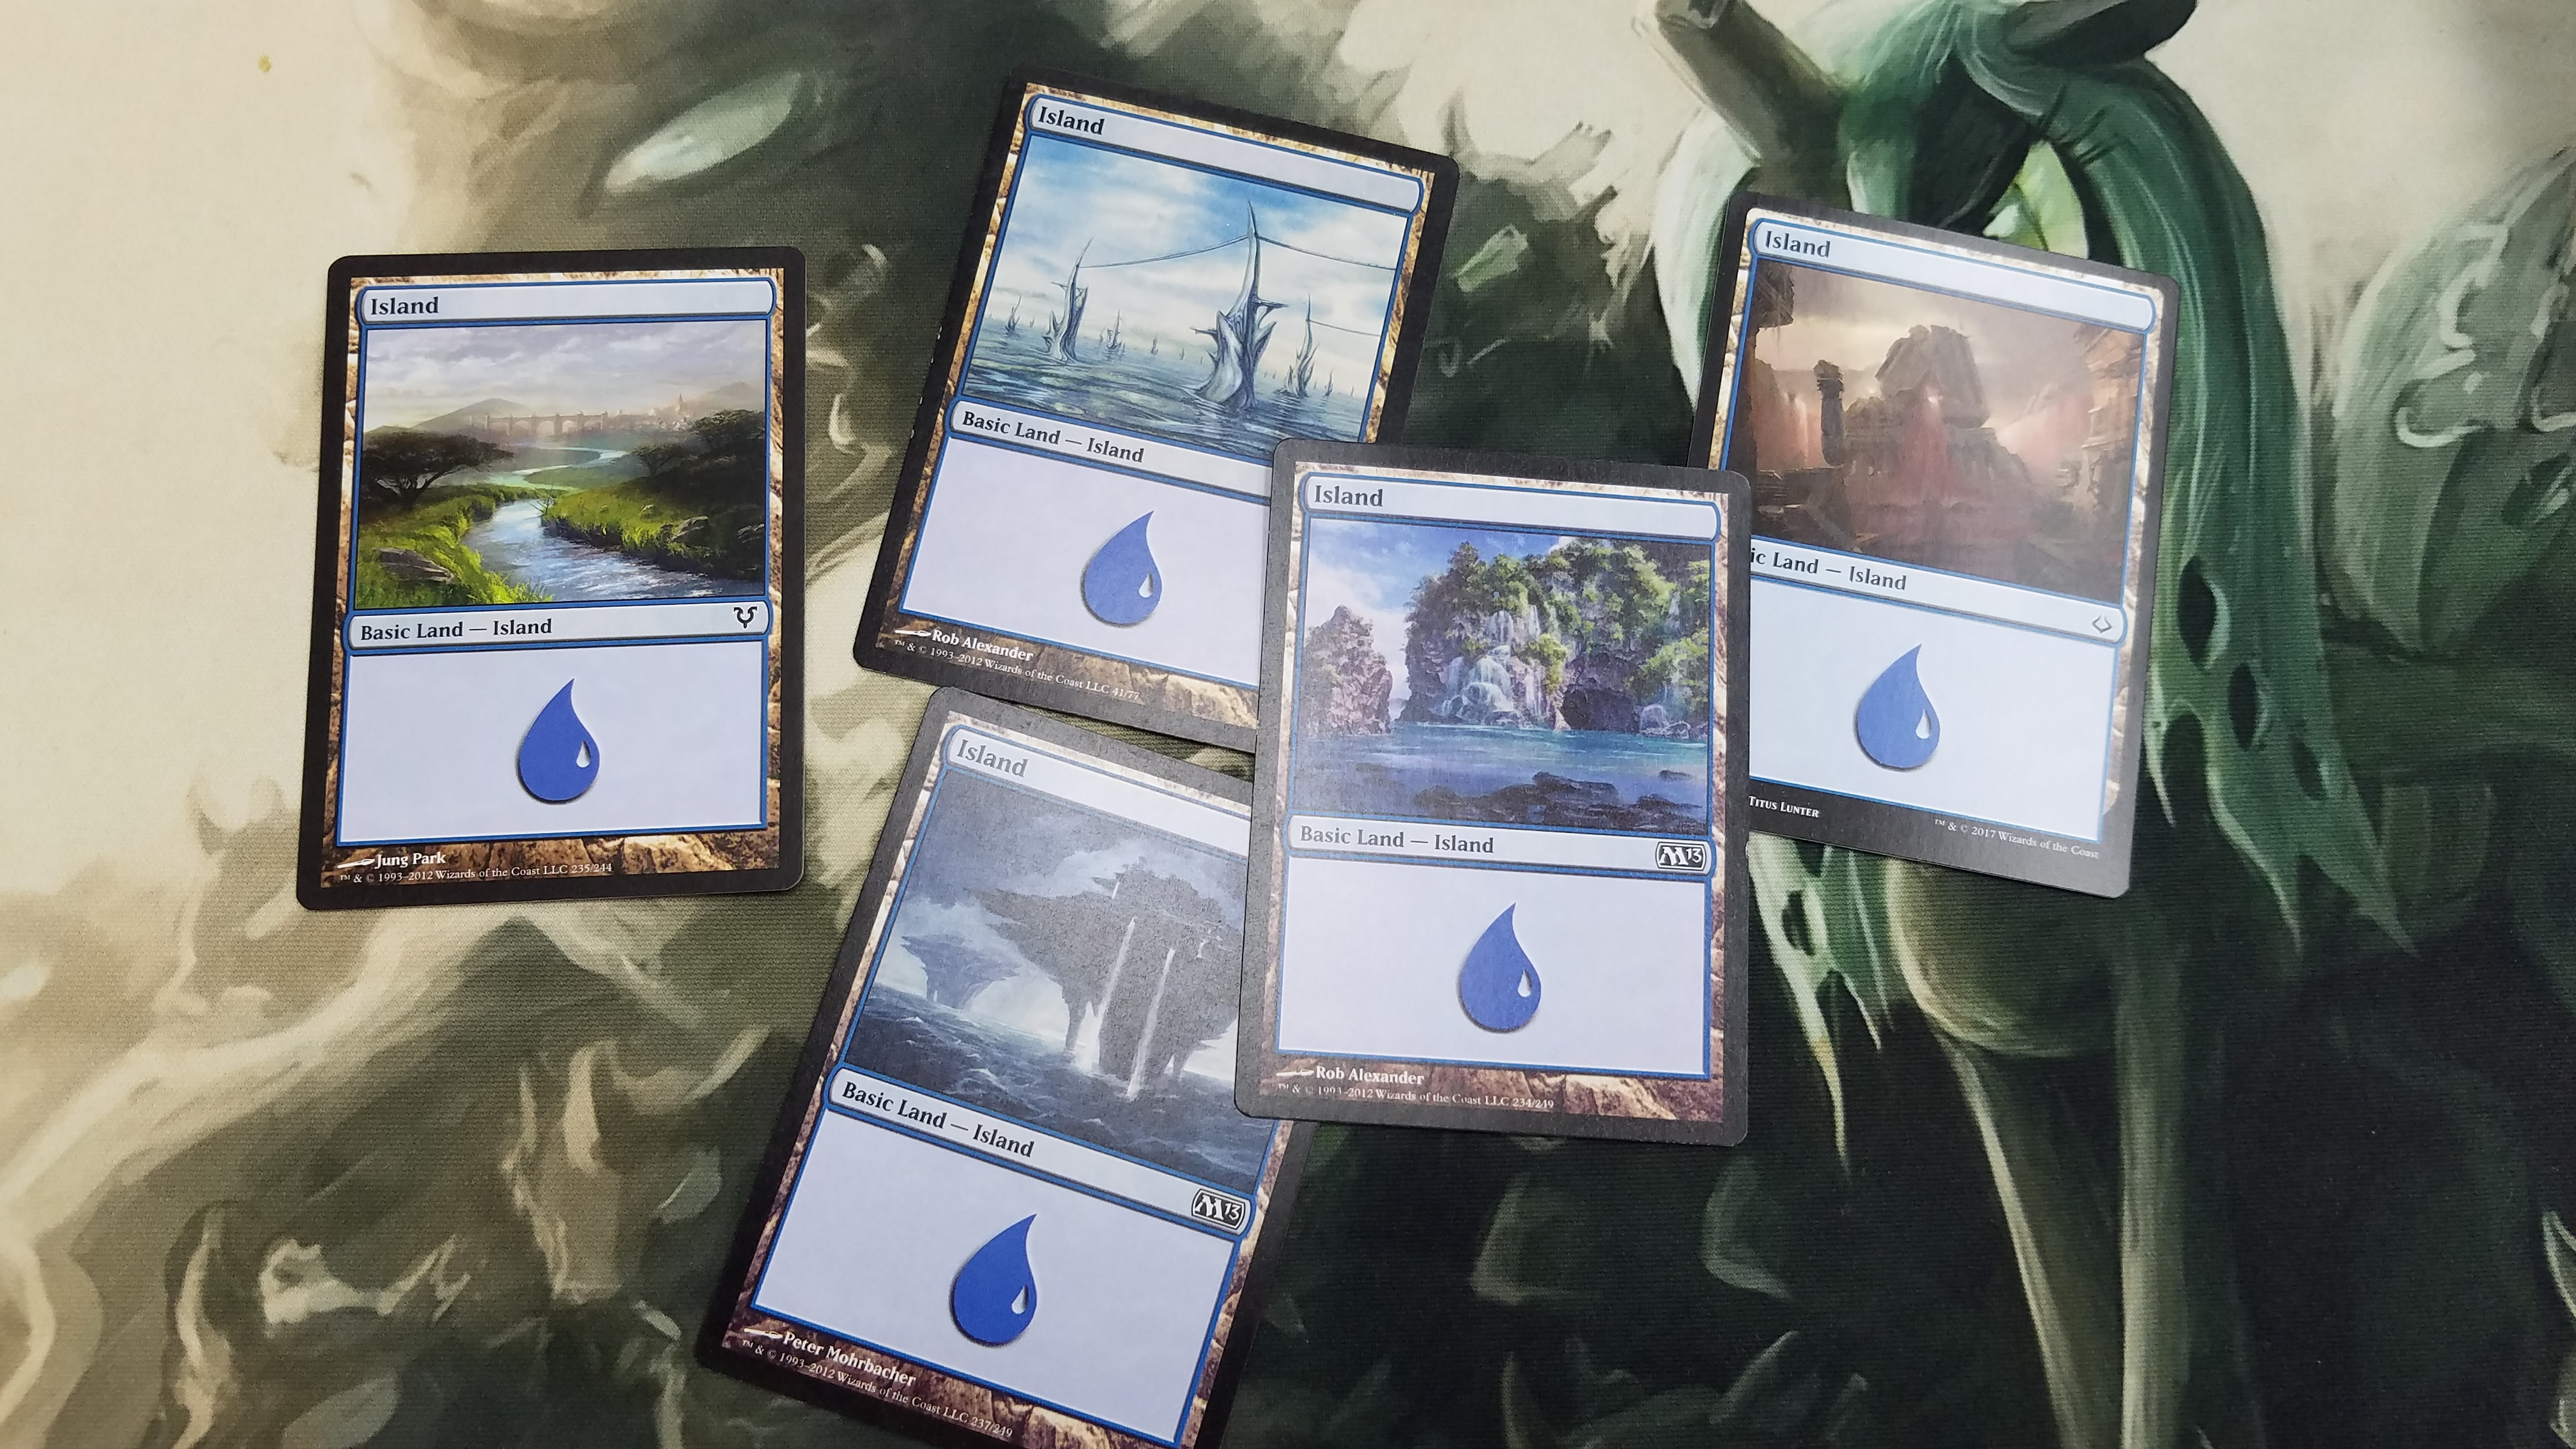Card: (686, 674, 1318, 1449), (853, 78, 1458, 761), (1226, 439, 1769, 1155), (1679, 189, 2196, 913), (304, 253, 828, 911)
